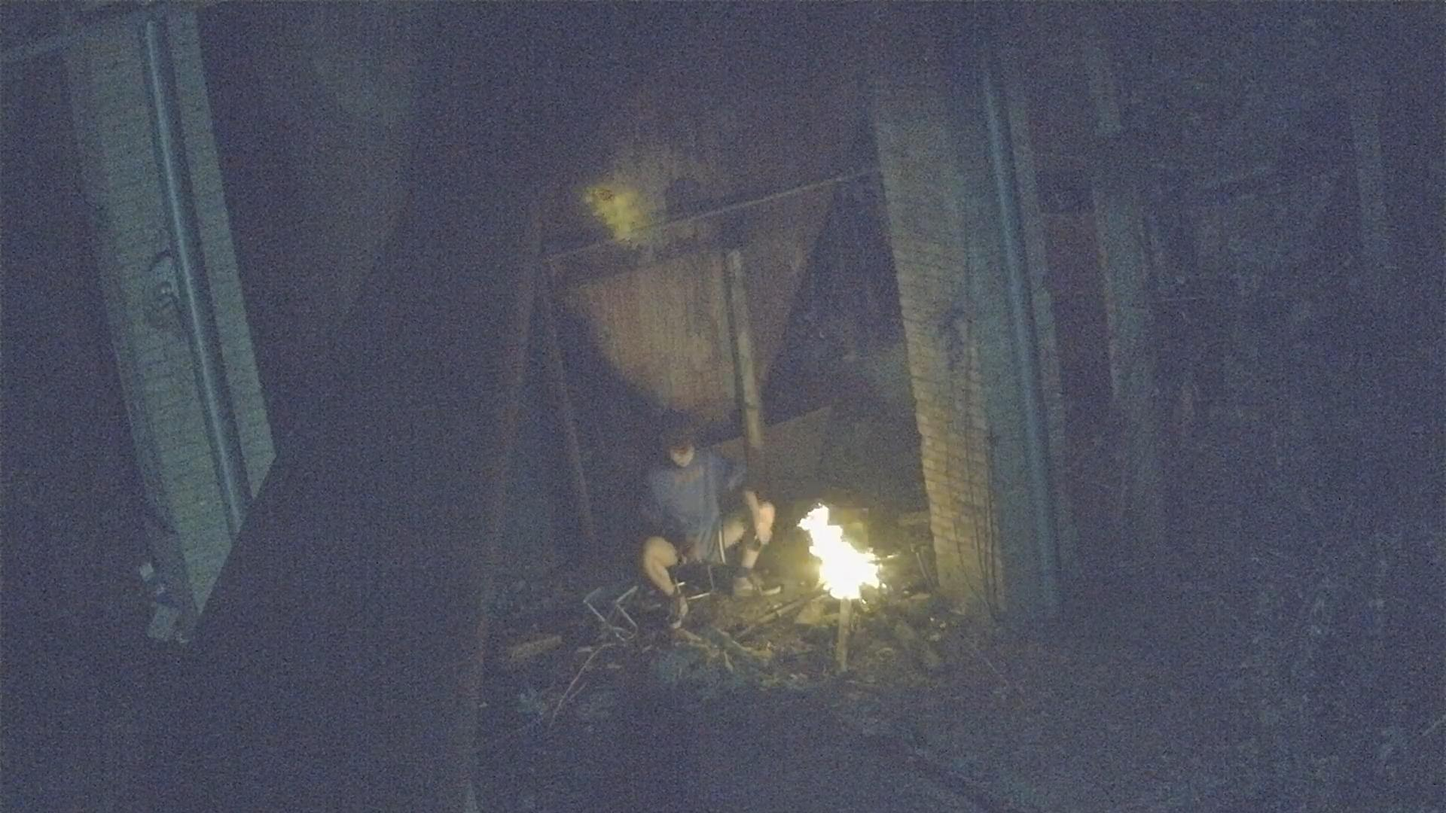fire: (798, 505, 880, 600)
